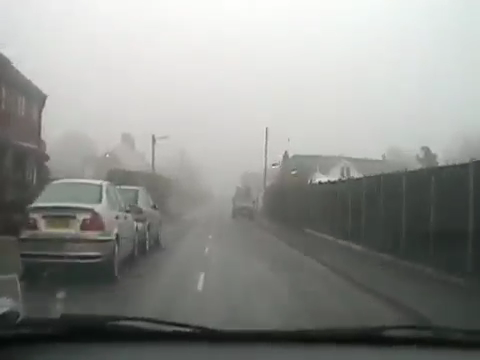car: (18, 178, 145, 281), (96, 185, 163, 254), (231, 186, 257, 219)
